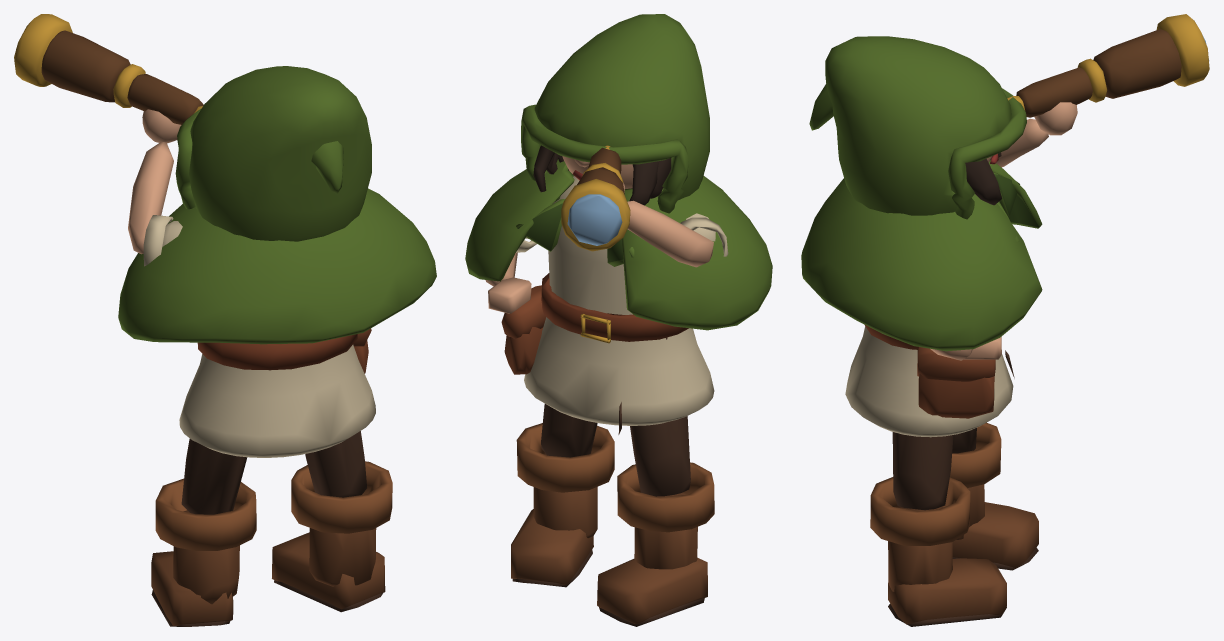
File: scout.glb
The picture shows the model from 3 angles, left to right: view 1: azimuth 30°, elevation 25°; view 2: azimuth 150°, elevation 25°; view 3: azimuth 270°, elevation 25°; orthographic projection. The views are drawn at different scales.
Visible parts, largest first — view 1: Body.001, Leg-1.003, Leg1.003; view 2: Body.001, Leg1.003, Leg-1.003; view 3: Body.001, Leg-1.003, Leg1.003.
Part boxes in pixels (x1=…): Body.001: x1=14, y1=14, x2=436, y2=457; Leg-1.003: x1=272, y1=431, x2=392, y2=612; Leg1.003: x1=151, y1=438, x2=256, y2=626; Body.001: x1=465, y1=14, x2=772, y2=434; Leg1.003: x1=597, y1=337, x2=714, y2=626; Leg-1.003: x1=511, y1=404, x2=614, y2=587; Body.001: x1=801, y1=14, x2=1209, y2=437; Leg-1.003: x1=870, y1=432, x2=1006, y2=626; Leg1.003: x1=950, y1=422, x2=1038, y2=570.
Bounding box in the file's own units: 0.4261 × 0.769 × 0.5256.
